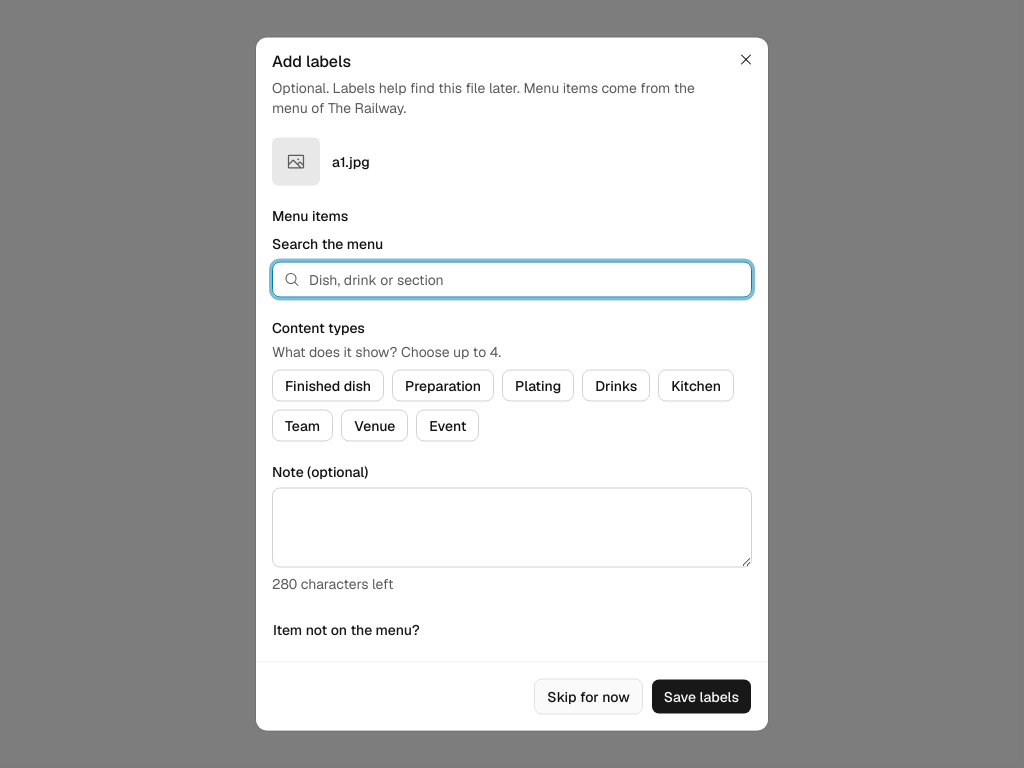
Test: LabelEditorDialog: search and selection › finds items by name, alias and section, keeping same names apart
In the dropdown labelled "Search the menu": (512, 280) [272, 262, 752, 298], type "bhajia"
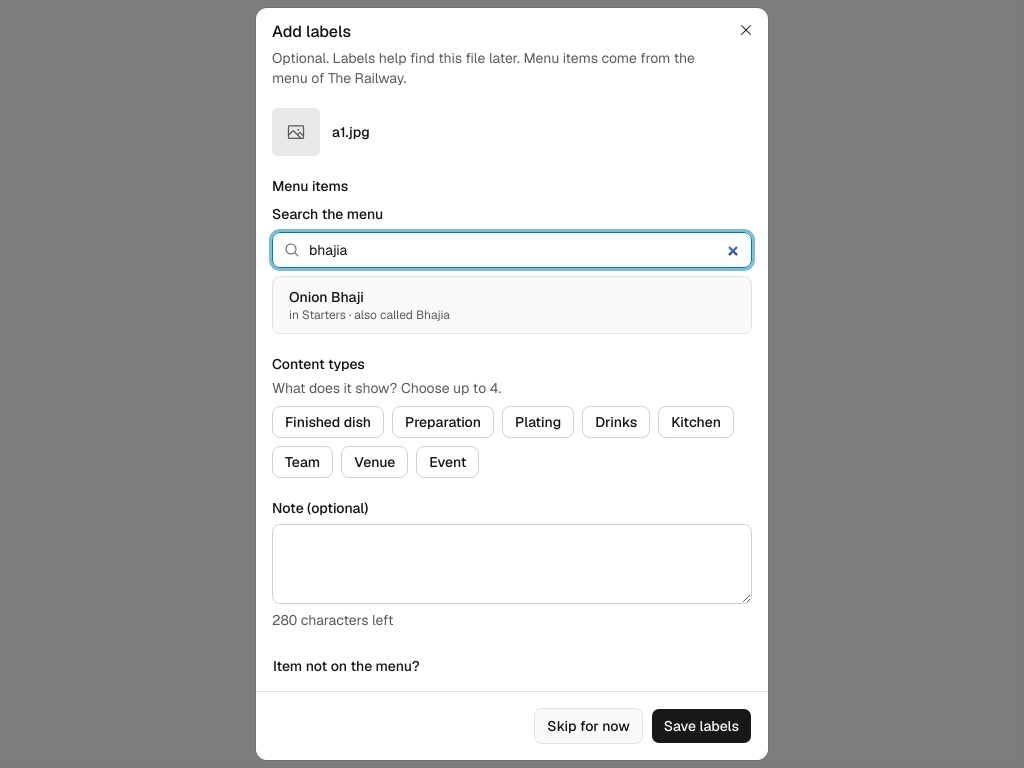
Expected: the option "Onion Bhaji in Starters · also called Bhajia" is shown, [289, 288, 450, 323]
Clear the dropdown labelled "Search the menu": (512, 250) [272, 232, 752, 268]
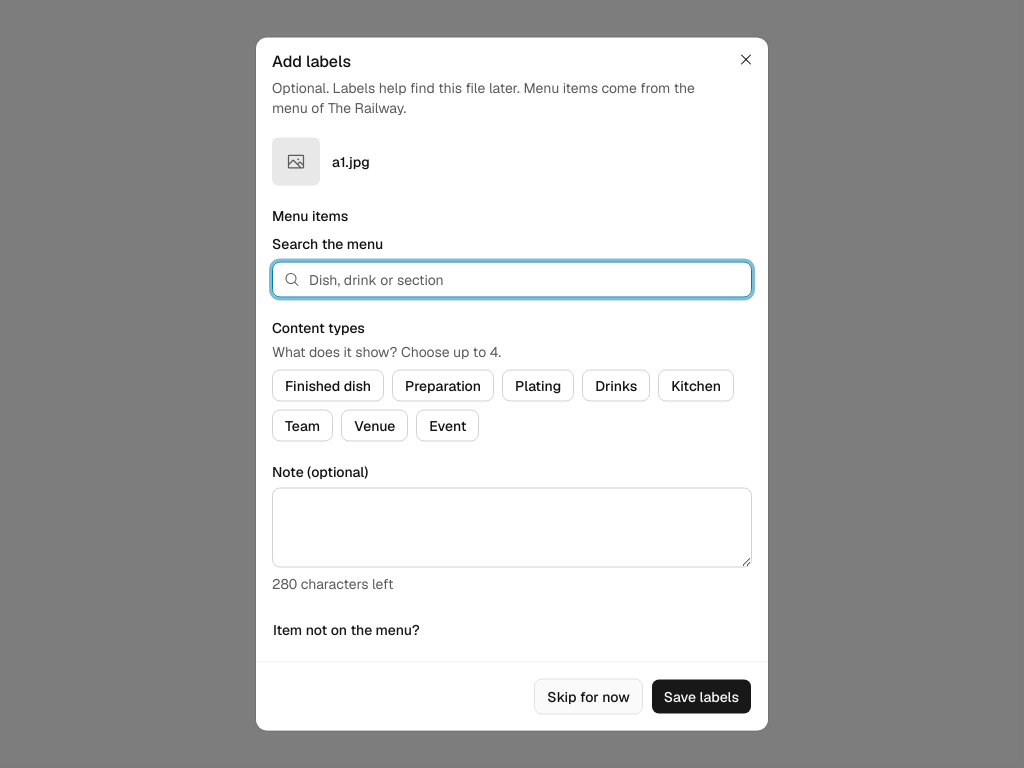
In the dropdown labelled "Search the menu": (512, 280) [272, 262, 752, 298], type "chicken"
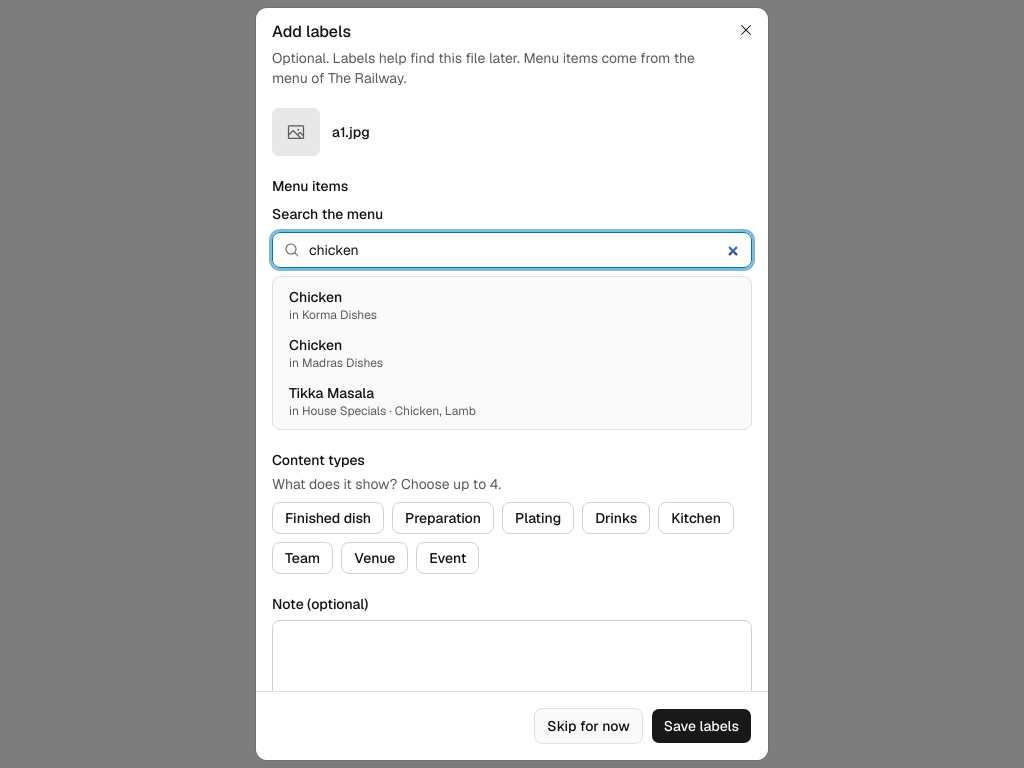
Expected: the options read "Chickenin Korma Dishes", "Chickenin Madras Dishes", "Tikka Masalain House Specials · Chicken, Lamb", in this order
Expected: the dropdown labelled "Search the menu" is expanded, [272, 232, 752, 268]
Click the option "Chicken in Korma Dishes": (333, 306) [289, 288, 377, 323]
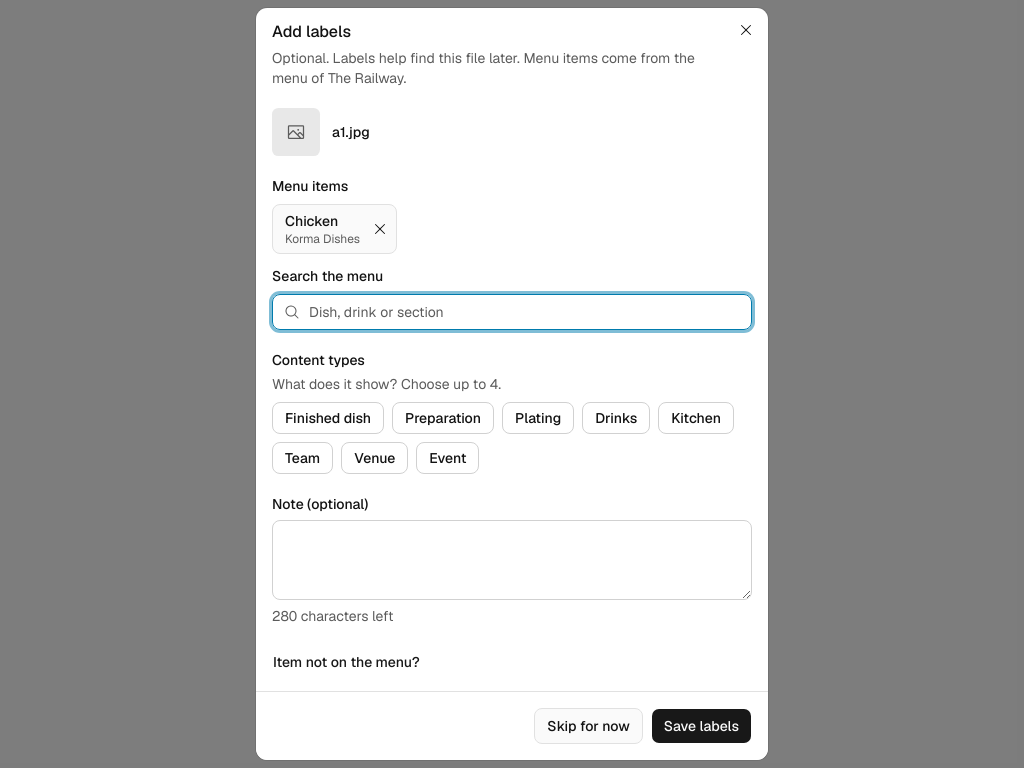
In the dropdown: (512, 312) [272, 294, 752, 330], type "madras"
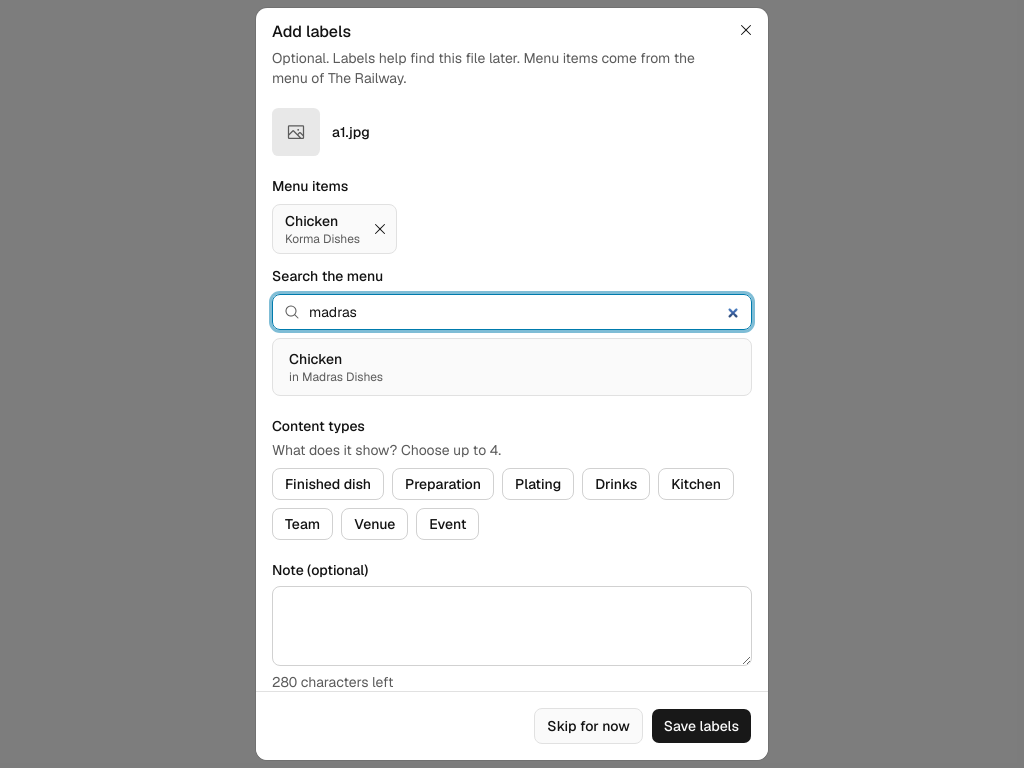
Click the option "Chicken in Madras Dishes": (336, 368) [289, 350, 383, 385]
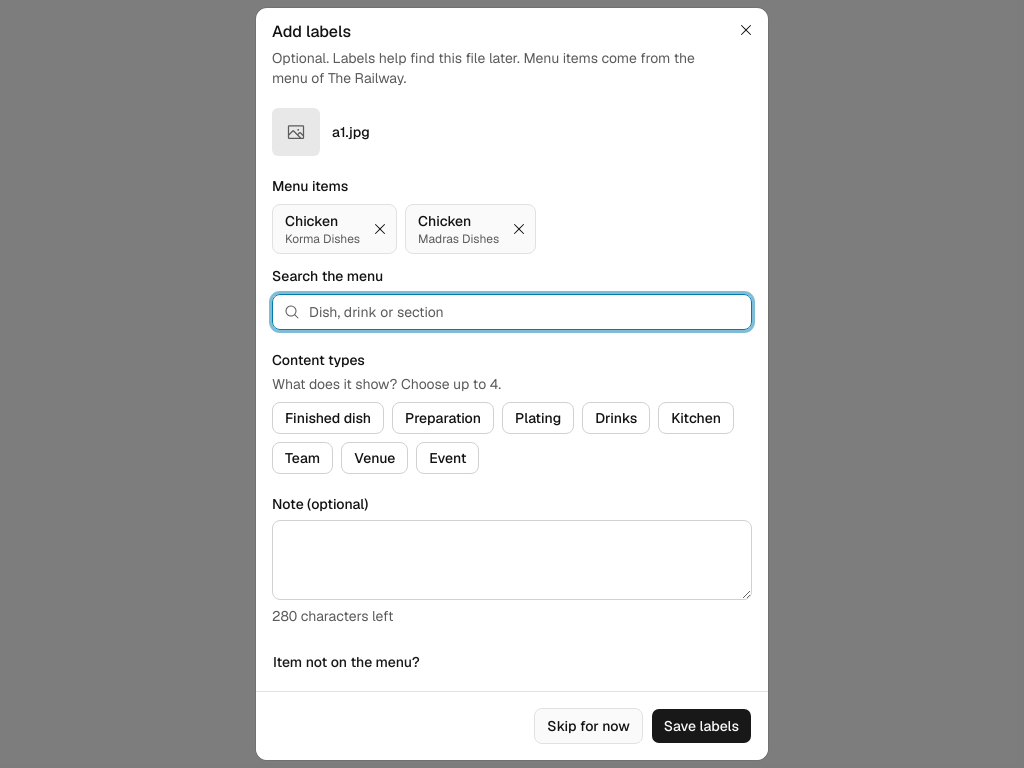
Expected: the button named "Remove Chicken (Korma Dishes)" is shown, [364, 213, 396, 245]
Expected: the button named "Remove Chicken (Madras Dishes)" is shown, [503, 213, 535, 245]
